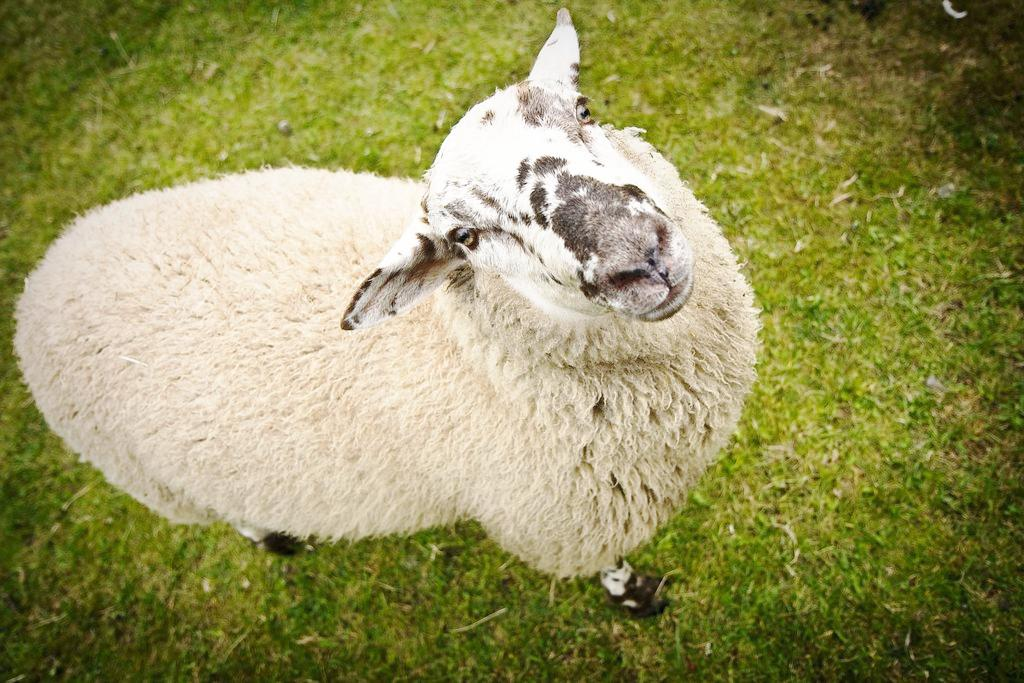Sheep: (12, 9, 760, 610)
